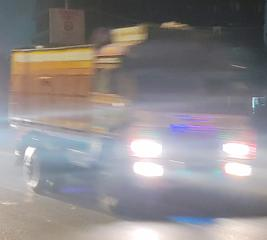Truck: (7, 20, 265, 215)
